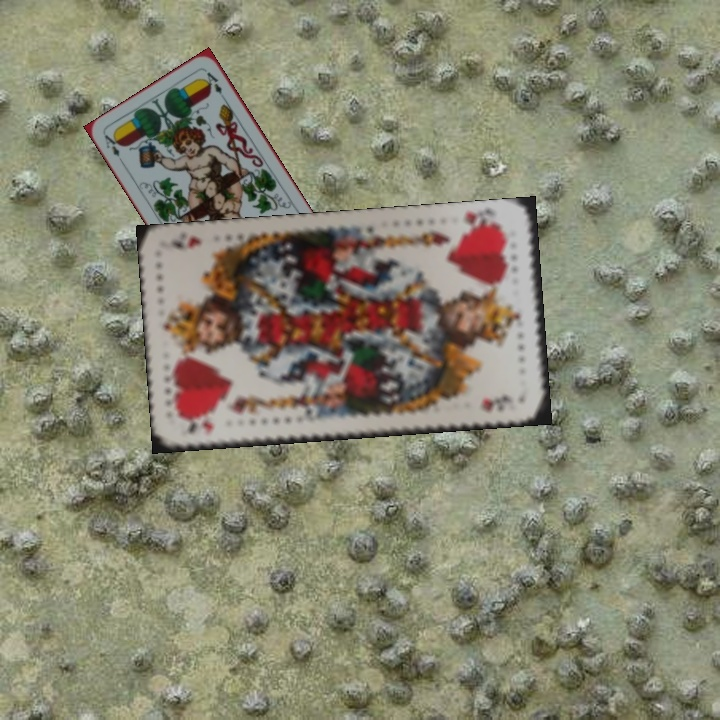EA: (100, 130, 123, 159)
HK: (177, 414, 217, 440), (458, 207, 486, 236)
